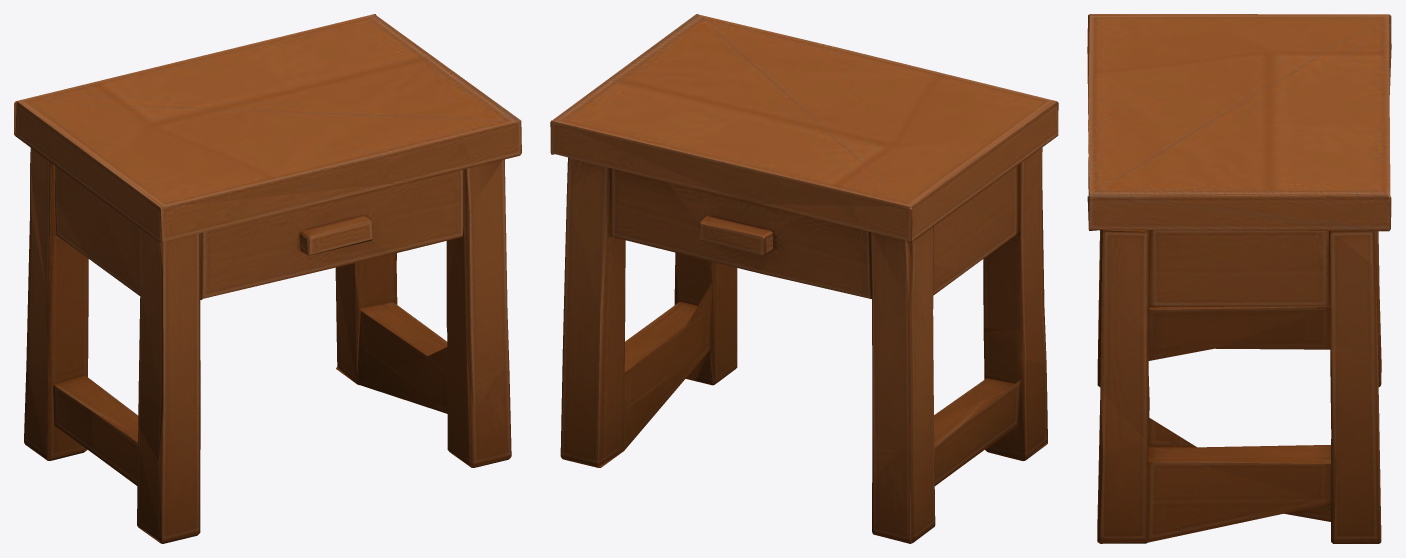
File: nightstand-meshy-1k5.glb
The picture shows the model from 3 angles, left to right: view 1: azimuth 30°, elevation 25°; view 2: azimuth 150°, elevation 25°; view 3: azimuth 270°, elevation 25°; orthographic projection. The views are drawn at different scales.
Visible parts, largest first — view 1: TopSlab, Leg_LF, Leg_RF, Drawer_Face, Leg_LB, Stretcher_R, Apron_L, Stretcher_L, Leg_RB, Knob, Rail_Top; view 2: TopSlab, Leg_LB, Apron_B, Leg_RB, Leg_LF, Stretcher_R, Apron_L, Stretcher_L, Leg_RF; view 3: TopSlab, Leg_RB, Leg_RF, Stretcher_R, Apron_R, Stretcher_L, Leg_LB, Leg_LF.
Boxes of the visible parts, bbox=[...] form: TopSlab: bbox=[14, 14, 521, 242]; Leg_LF: bbox=[137, 228, 203, 543]; Leg_RF: bbox=[446, 159, 511, 467]; Drawer_Face: bbox=[202, 169, 463, 298]; Leg_LB: bbox=[24, 148, 88, 460]; Stretcher_R: bbox=[356, 302, 447, 413]; Apron_L: bbox=[50, 162, 140, 295]; Stretcher_L: bbox=[53, 375, 138, 485]; Leg_RB: bbox=[335, 253, 397, 385]; Knob: bbox=[299, 216, 372, 255]; Rail_Top: bbox=[289, 183, 407, 230]; TopSlab: bbox=[550, 14, 1058, 242]; Leg_LB: bbox=[870, 226, 935, 543]; Apron_B: bbox=[609, 168, 871, 298]; Leg_RB: bbox=[560, 157, 625, 467]; Leg_LF: bbox=[983, 147, 1047, 460]; Stretcher_R: bbox=[624, 282, 712, 450]; Apron_L: bbox=[933, 165, 1017, 295]; Stretcher_L: bbox=[934, 378, 1020, 485]; Leg_RF: bbox=[674, 252, 737, 385]; TopSlab: bbox=[1087, 14, 1391, 233]; Leg_RB: bbox=[1284, 231, 1381, 543]; Leg_RF: bbox=[1097, 230, 1149, 543]; Stretcher_R: bbox=[1148, 417, 1330, 542]; Apron_R: bbox=[1149, 230, 1330, 307]; Stretcher_L: bbox=[1148, 306, 1330, 360]; Leg_LB: bbox=[1375, 231, 1381, 386]; Leg_LF: bbox=[1097, 230, 1102, 386].
Size of the model in its own units: 0.61 by 0.55 by 0.43.
Materials: 1 (1 with a texture image).
